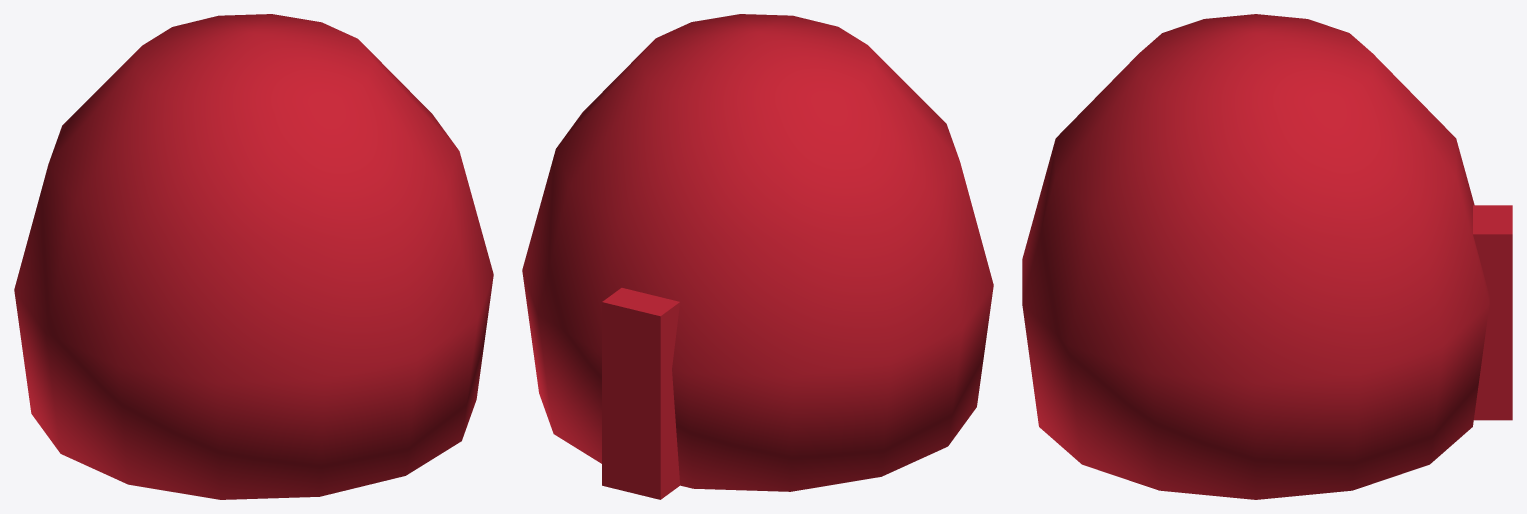
File: adamantite_helmet.glb
3 renders of one model, left to right at view 1: azimuth 30°, elevation 25°; view 2: azimuth 150°, elevation 25°; view 3: azimuth 270°, elevation 25°, orthographic.
Parts seen in each view (by area): view 1: crimsite_helmet_v0; view 2: crimsite_helmet_v0; view 3: crimsite_helmet_v0.
Part boxes in pixels (x1=…): crimsite_helmet_v0: x1=14, y1=14, x2=493, y2=499; crimsite_helmet_v0: x1=522, y1=14, x2=993, y2=499; crimsite_helmet_v0: x1=1022, y1=14, x2=1512, y2=499.
Bounding box in the file's own units: 0.28 × 0.24 × 0.2865.
